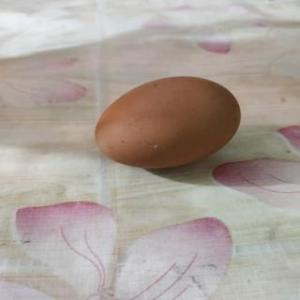egg: (92, 76, 246, 172)
